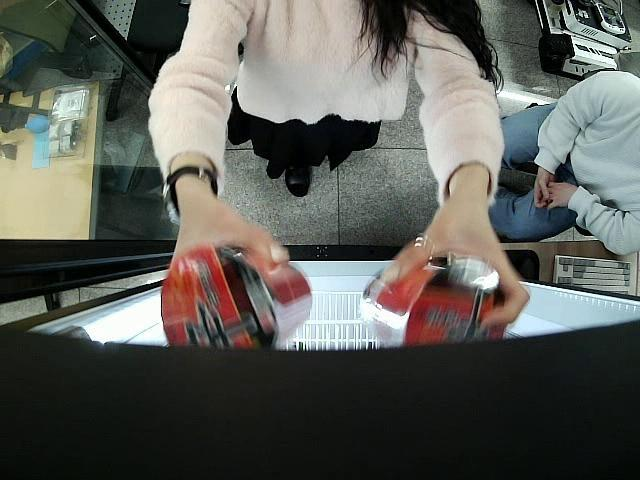02_shinRamen_S: (162, 244, 312, 350), (362, 255, 506, 348)
